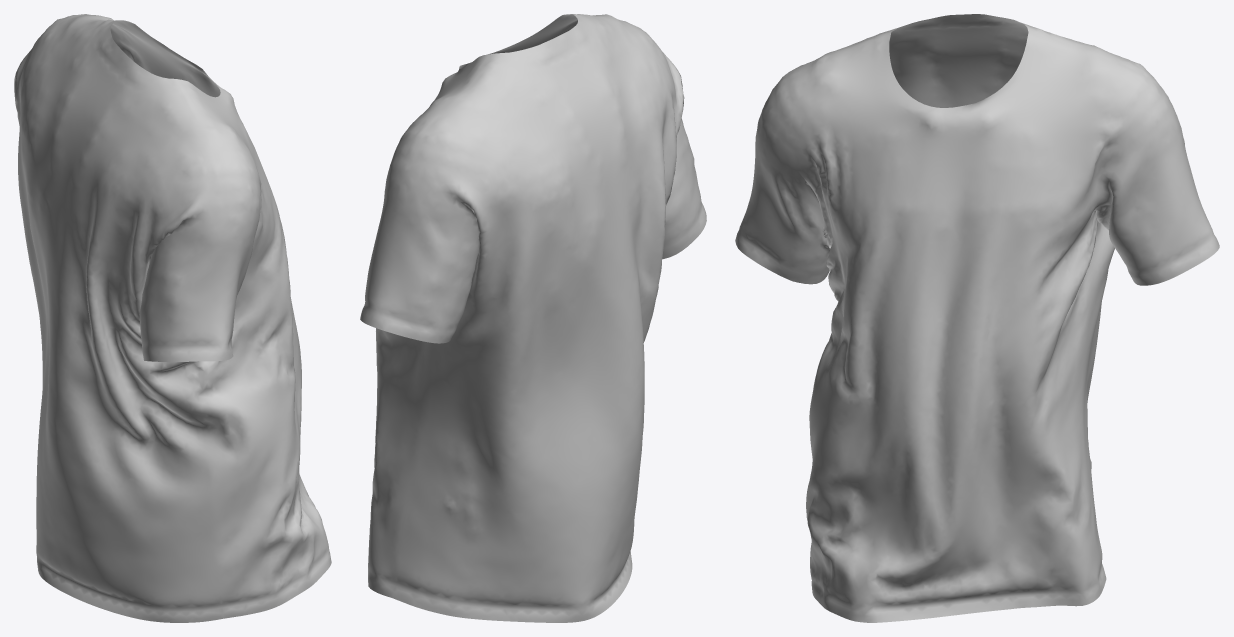
File: tshirt.glb
3 renders of one model, left to right at view 1: azimuth 30°, elevation 25°; view 2: azimuth 150°, elevation 25°; view 3: azimuth 270°, elevation 25°, orthographic. The views are drawn at different scales.
Parts seen in each view (by area): view 1: Material1722, Material1718, Material1724, Material1720; view 2: Material1722, Material1724, Material1718, Material1720; view 3: Material1718, Material1724, Material1722, Material1720.
Boxes of the visible parts, x1,y1,x2,y2 form: Material1722: [14, 14, 223, 622]; Material1718: [88, 14, 331, 618]; Material1724: [16, 29, 260, 362]; Material1720: [102, 20, 230, 105]; Material1722: [392, 14, 677, 622]; Material1724: [360, 41, 706, 343]; Material1718: [368, 14, 629, 597]; Material1720: [454, 14, 586, 76]; Material1718: [776, 35, 1144, 622]; Material1724: [735, 75, 1219, 285]; Material1722: [783, 20, 1151, 586]; Material1720: [876, 14, 1038, 119].
Size of the model in its own units: 328 by 709 by 569.
4 materials, 4 textured.
